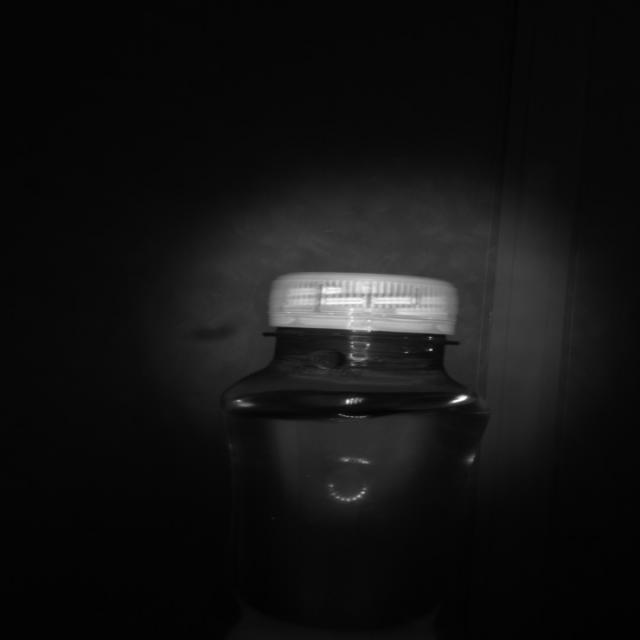Good: (270, 268, 460, 337)
